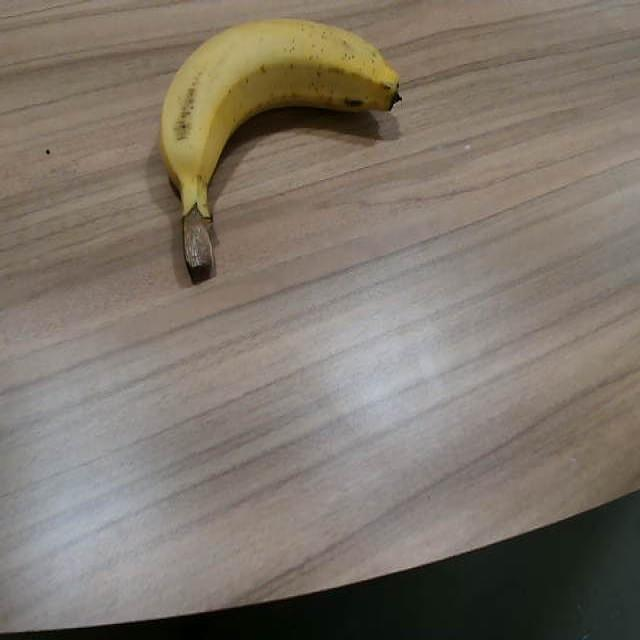Ripe: (151, 3, 413, 291)
